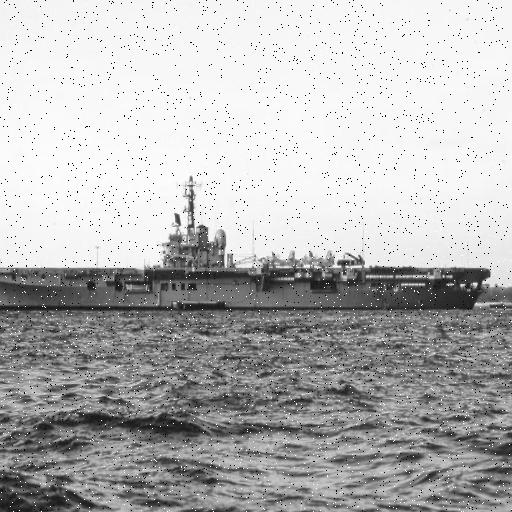Portanaves: (1, 169, 499, 320)
